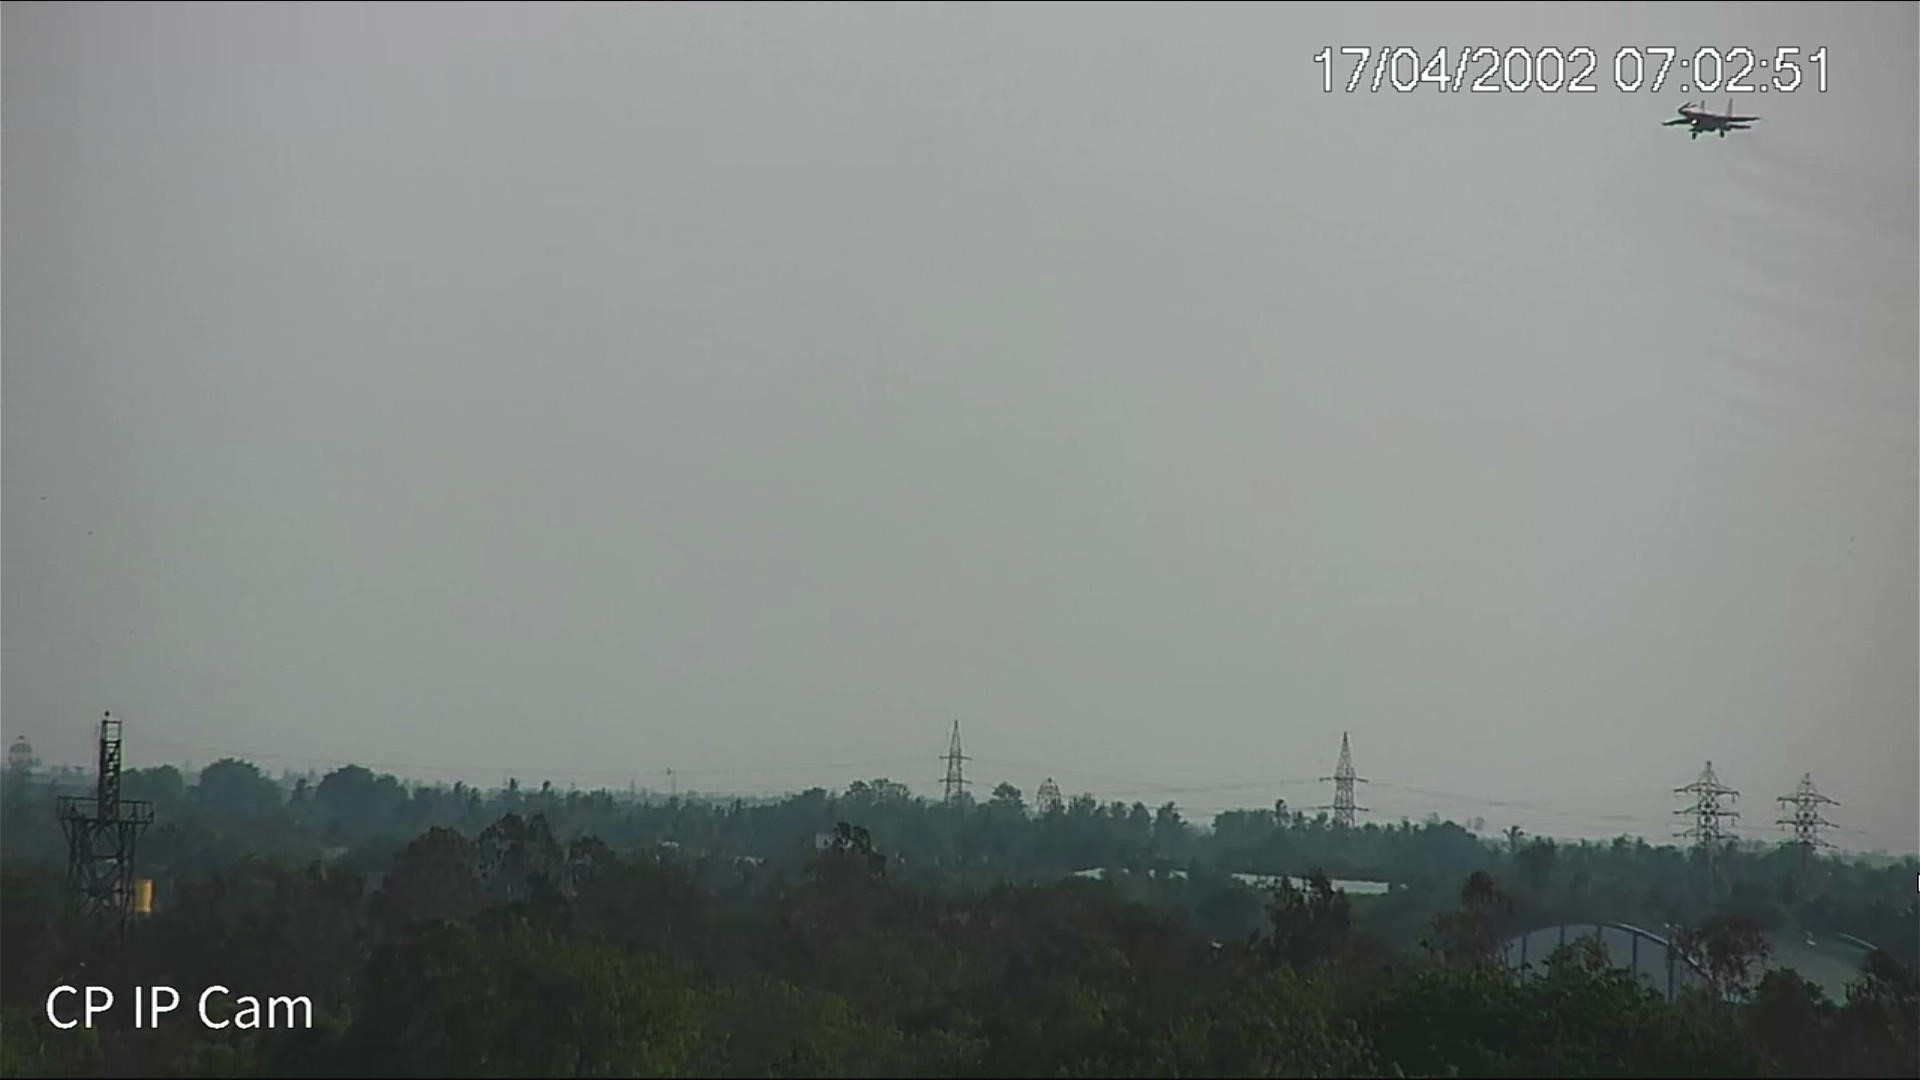SU_30: (1662, 98, 1753, 141)
